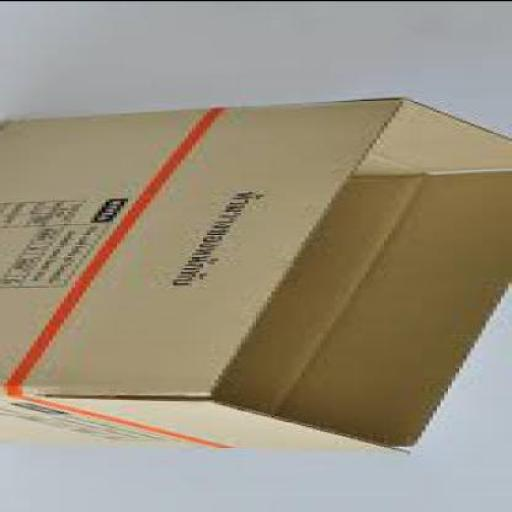cardboard: (4, 95, 510, 453)
